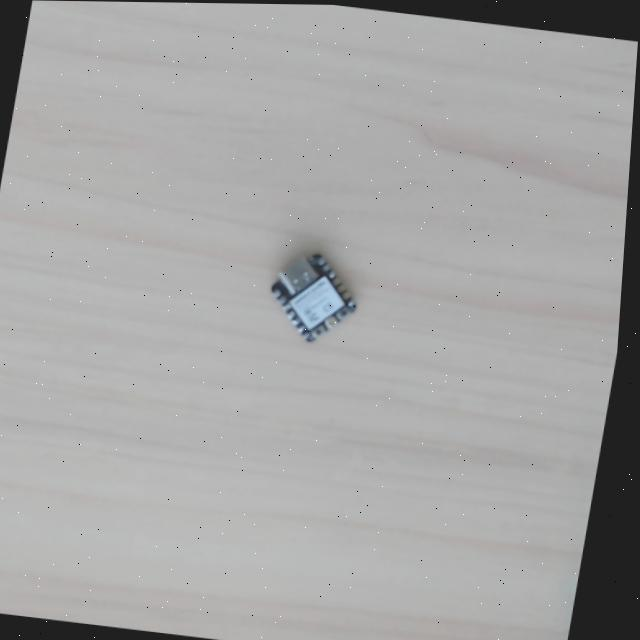ESP32C3-Xiao: (261, 244, 360, 345)
